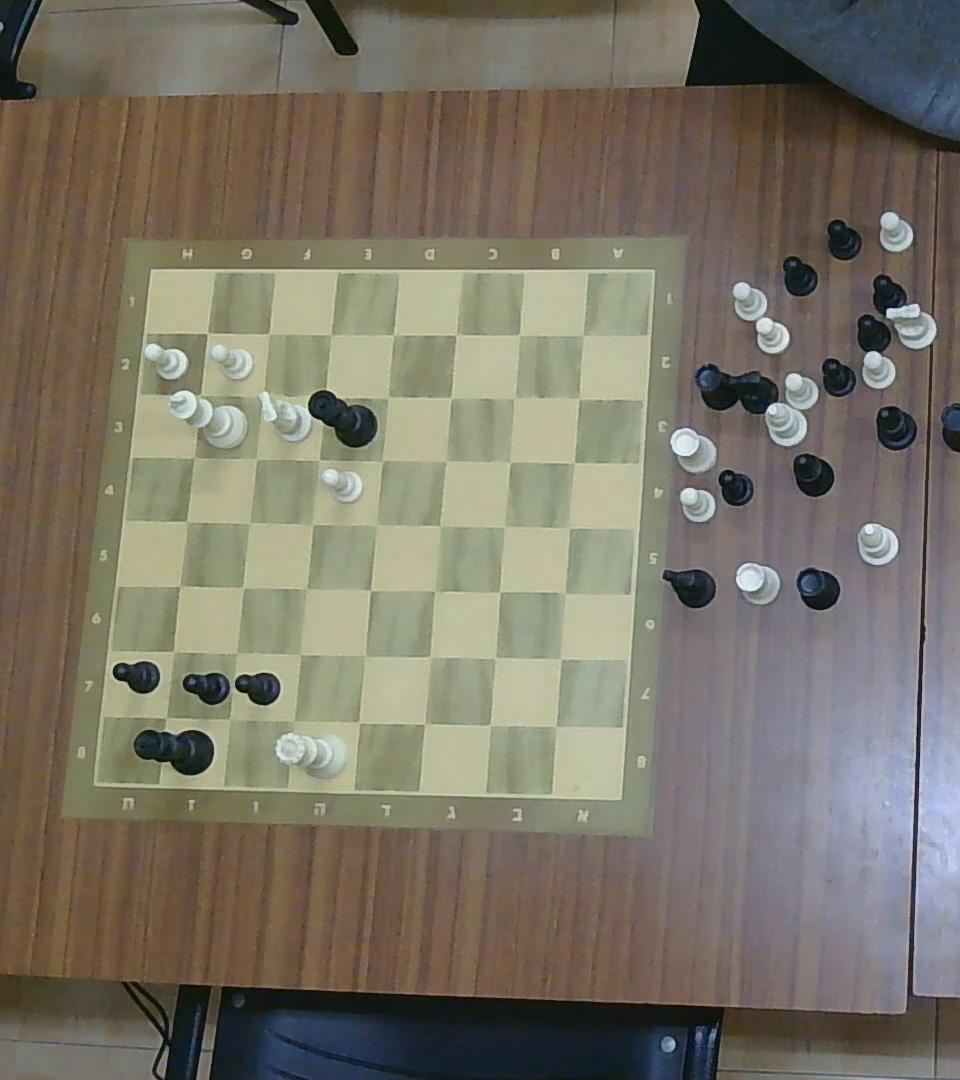xcorner: (477, 712, 503, 738), (543, 714, 569, 739), (246, 382, 272, 407), (412, 711, 437, 736), (281, 708, 305, 732), (347, 710, 371, 734), (418, 644, 442, 668), (482, 646, 506, 669), (353, 644, 376, 668), (154, 705, 178, 728), (549, 647, 571, 669), (218, 708, 240, 729), (188, 384, 210, 405), (439, 386, 461, 406), (372, 449, 392, 471), (289, 644, 311, 664), (319, 324, 341, 344), (429, 514, 449, 535), (225, 642, 245, 663), (183, 447, 203, 467), (423, 580, 443, 600), (555, 582, 575, 602), (559, 516, 579, 536), (378, 387, 397, 408), (309, 448, 328, 469), (296, 578, 315, 599), (435, 450, 454, 470), (367, 514, 386, 534), (489, 582, 508, 602), (361, 580, 380, 600), (446, 325, 465, 345), (170, 575, 189, 595), (177, 511, 196, 531), (384, 325, 403, 345), (315, 386, 334, 406), (240, 513, 259, 532), (500, 451, 519, 470), (303, 514, 321, 534), (260, 324, 278, 344), (248, 449, 266, 468), (198, 323, 217, 341), (233, 577, 251, 596), (495, 517, 513, 535), (165, 642, 183, 660), (565, 453, 583, 471), (511, 326, 529, 344), (573, 326, 591, 344), (505, 389, 523, 406), (572, 390, 588, 405)
